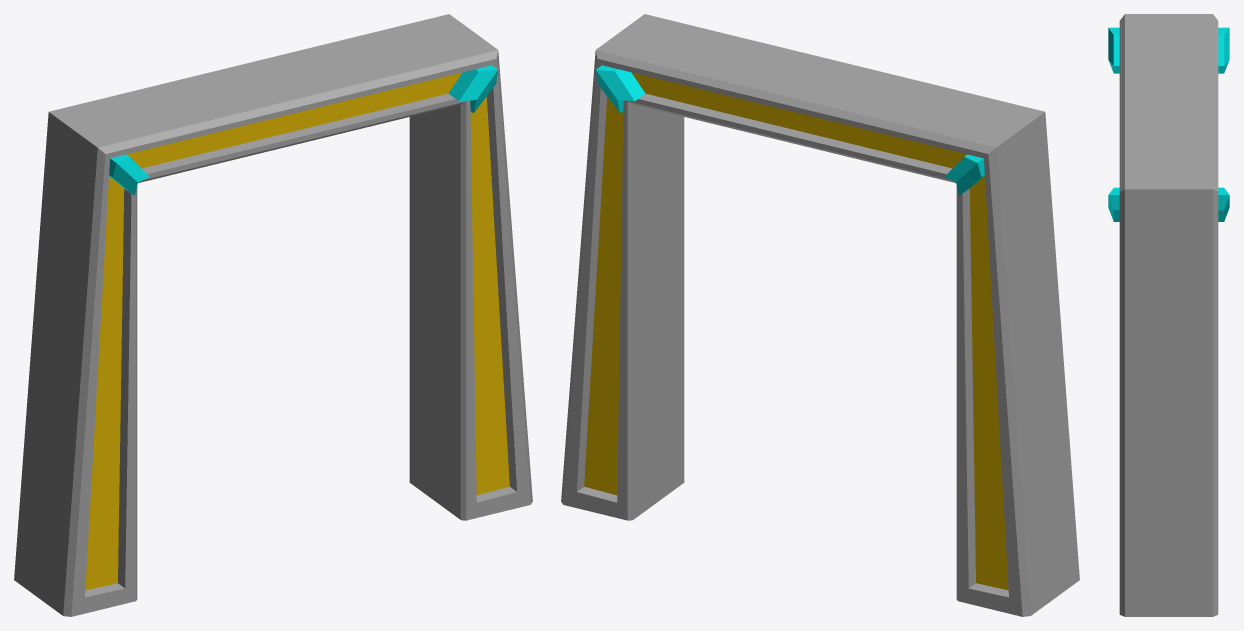
Rendered from Door_Frame_1.fbx.
The picture shows the model from 3 angles, left to right: view 1: azimuth 30°, elevation 25°; view 2: azimuth 150°, elevation 25°; view 3: azimuth 270°, elevation 25°; orthographic projection. The views are drawn at different scales.
Parts seen in each view (by area): view 1: pCube1; view 2: pCube1; view 3: pCube1.
Part boxes in pixels (x1=…): pCube1: x1=14, y1=14, x2=532, y2=616; pCube1: x1=561, y1=14, x2=1079, y2=616; pCube1: x1=1108, y1=14, x2=1229, y2=616.
Size of the model in its own units: 757 by 708 by 189.
